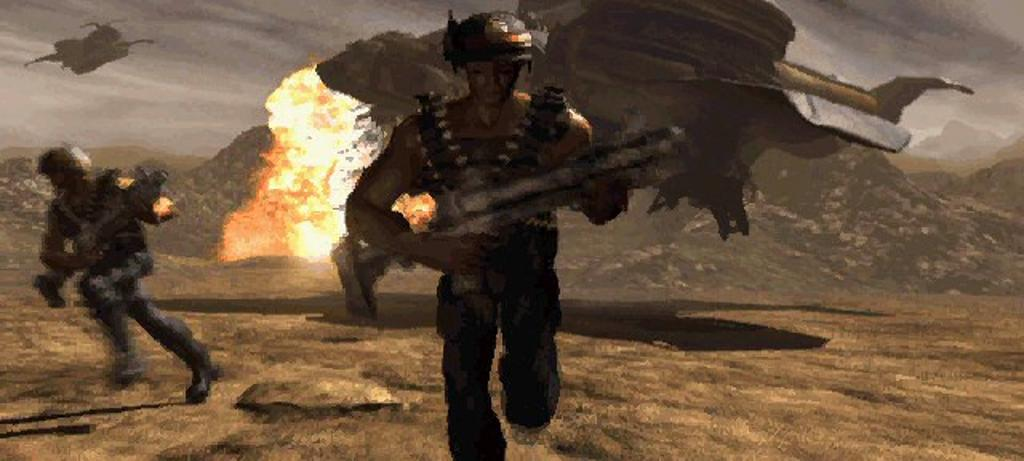face: (467, 54, 514, 103), (46, 169, 65, 188)
